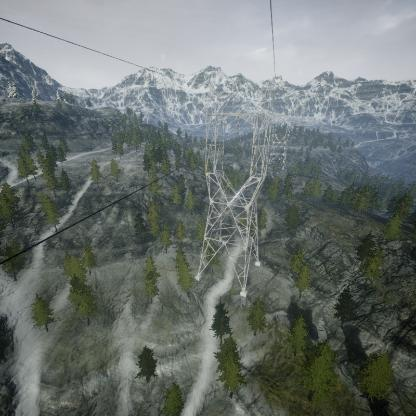tower: (192, 85, 273, 302)
